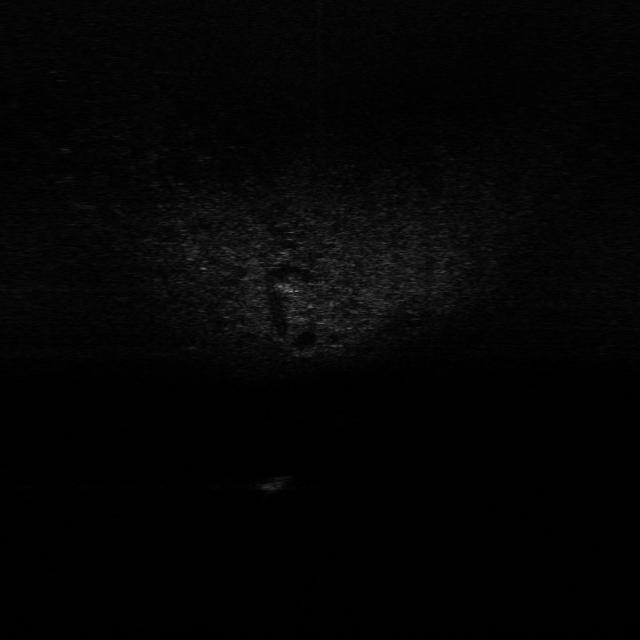cylinder: (262, 468, 297, 494)
